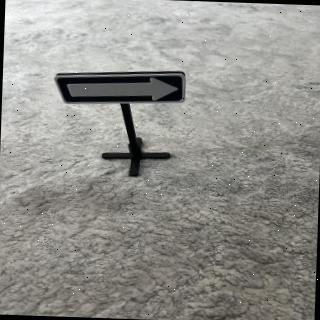sign_oneway_right: (54, 66, 190, 110)
